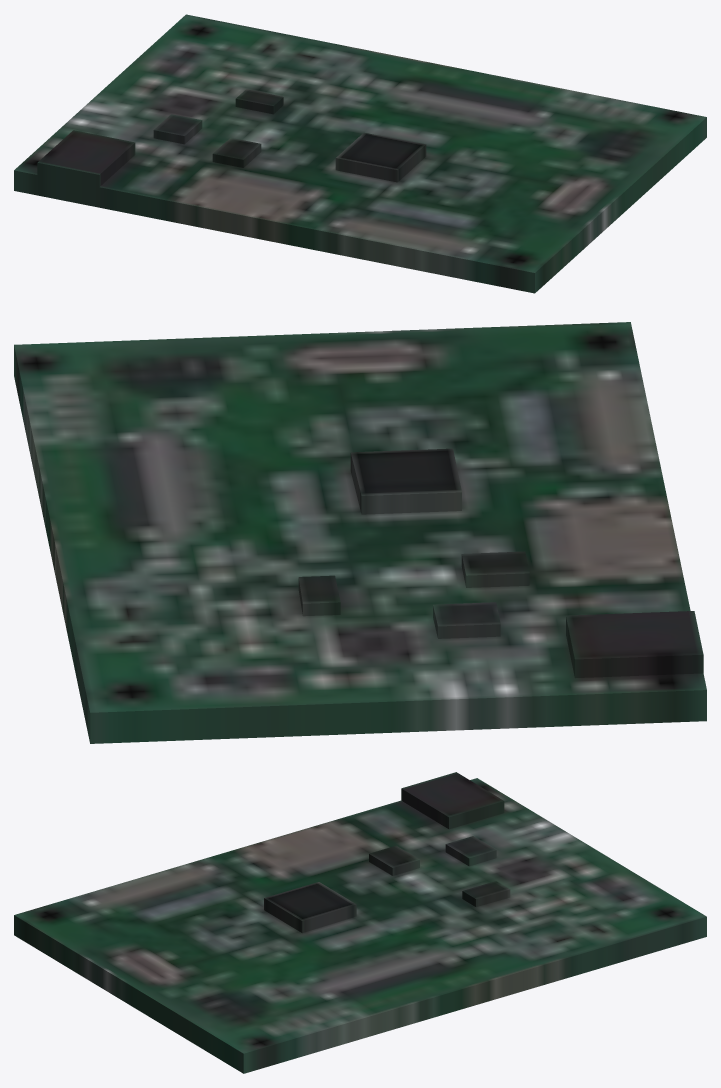
The model's file is pcb_2.obj.
3 views of the same model, one above another, from view 1: azimuth 30°, elevation 25°; view 2: azimuth 150°, elevation 25°; view 3: azimuth 270°, elevation 25° (orthographic). The views are drawn at different scales.
Visible parts, largest first — view 1: pcb_2; view 2: pcb_2; view 3: pcb_2.
Part boxes in pixels (<box>): pcb_2: <box>14,14,706,293</box>; pcb_2: <box>14,322,706,743</box>; pcb_2: <box>14,772,706,1073</box>.
Bounding box in the file's own units: 0.1466 × 0.008 × 0.1557.
